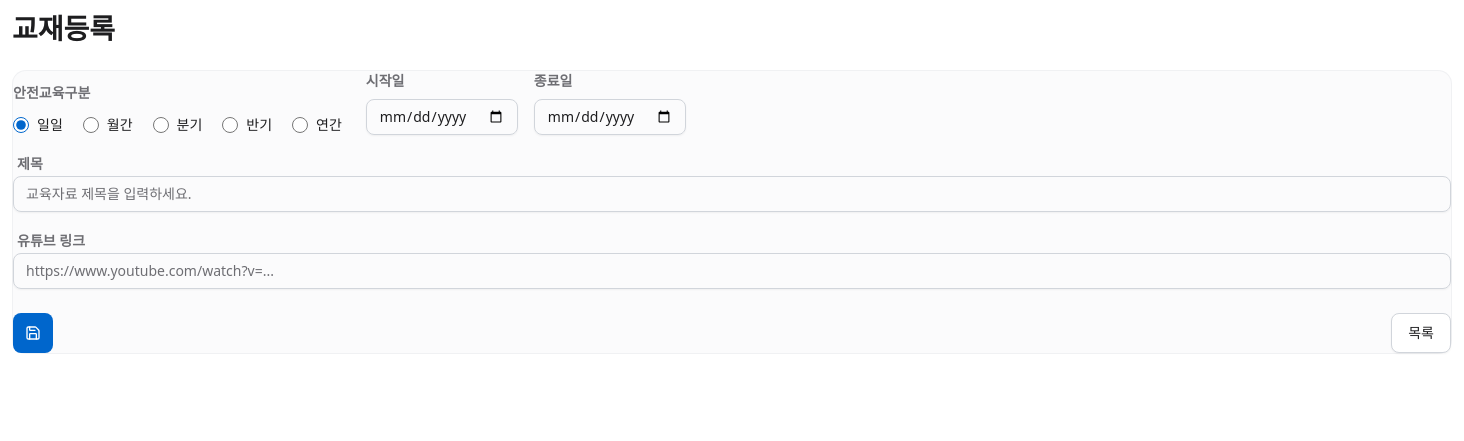
Test case: education resource new page › shows the period overlap error without navigating away
Step 1. Type "교육" into the field labelled "제목" → (732, 194), box [13,176,1451,212]
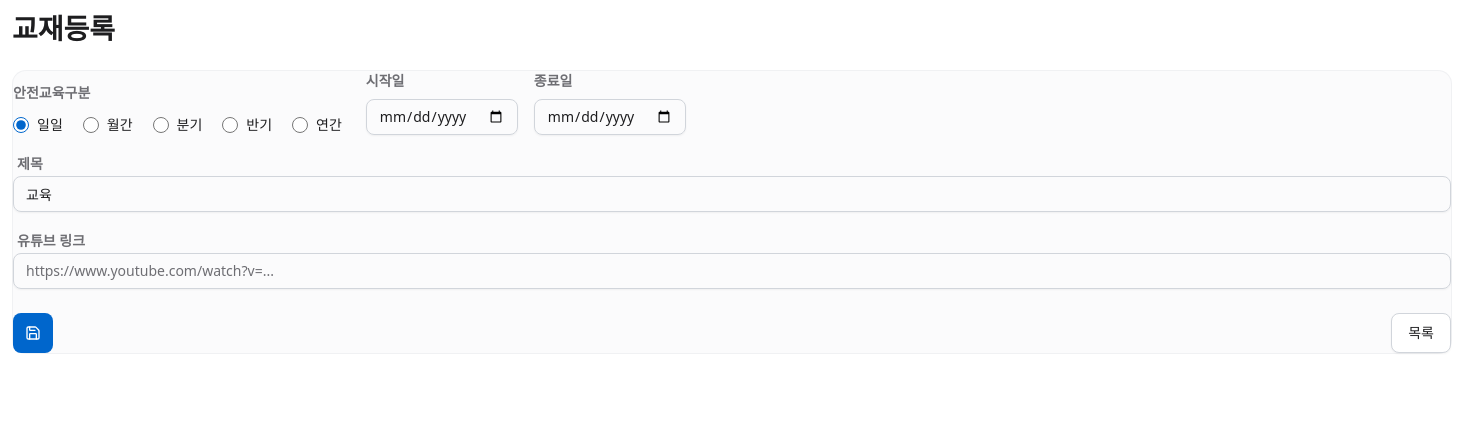
Step 2. Type "https://youtu.be/example" into the field labelled "유튜브 링크" → (732, 271), box [13,253,1451,289]
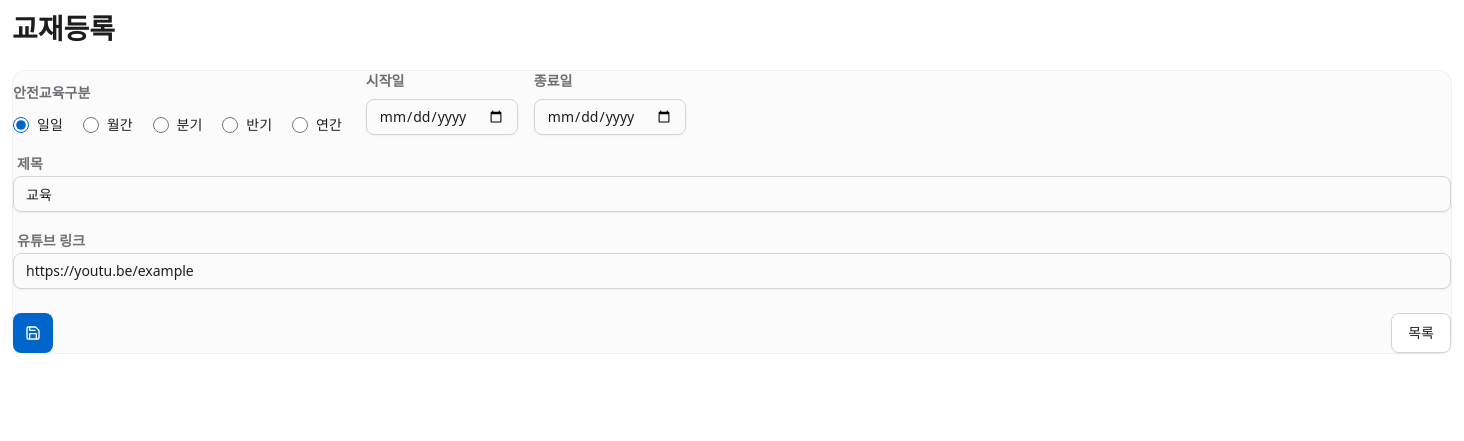
Step 3. Type "2026-10-07" into the date field labelled "시작일" → (442, 117), box [366,99,518,135]
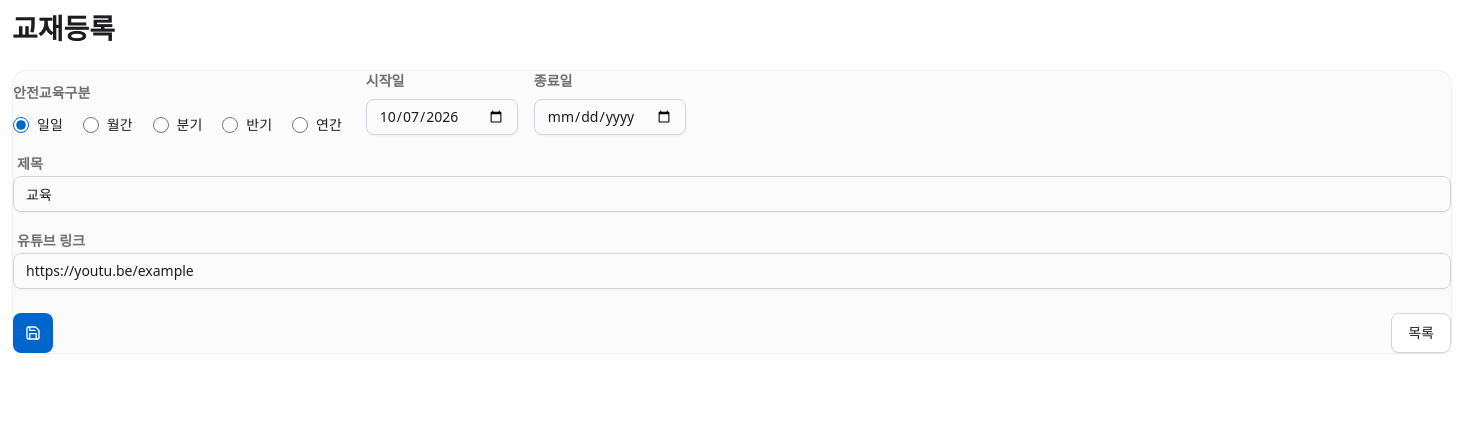
Step 4. Type "2026-10-31" into the date field labelled "종료일" → (610, 117), box [534,99,686,135]
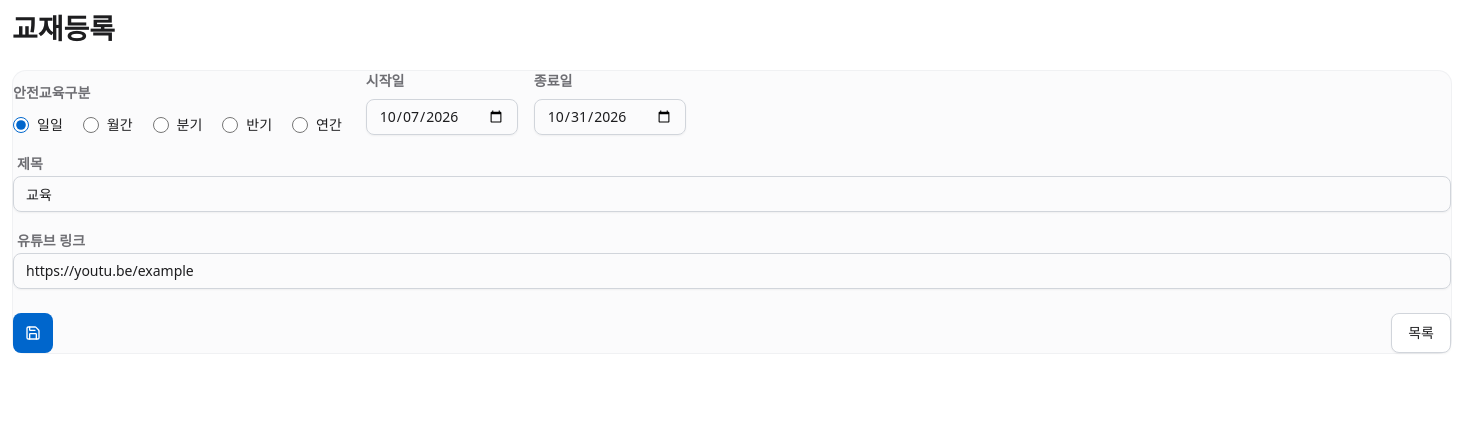
Step 5. Click the button named "저장" → (33, 333), box [13,313,53,353]
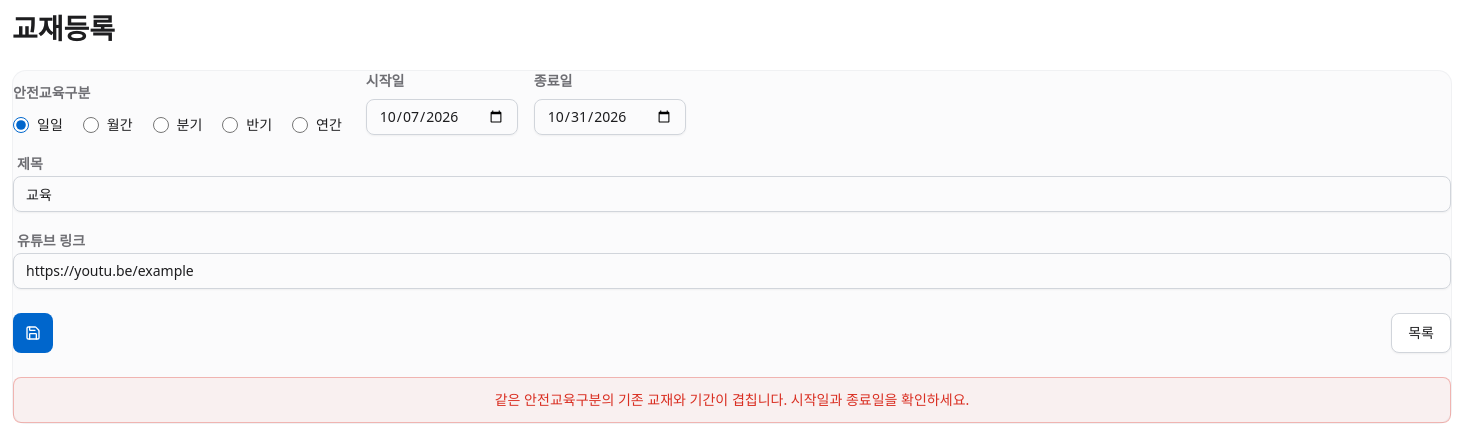
Now the text "같은 안전교육구분의 기존 교재와 기간이 겹칩니다. 시작일과 종료일을 확인하세요." is shown, box [13,377,1451,423]
